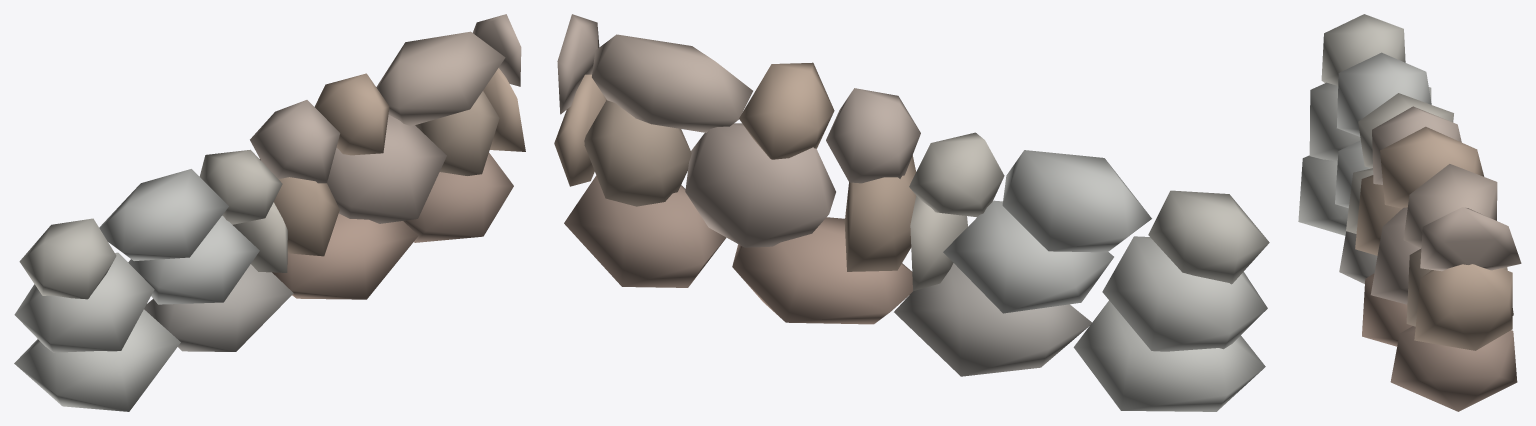
The model's file is farm_-24_-22_near.glb.
3 views of the same model, side by side, from view 1: azimuth 30°, elevation 25°; view 2: azimuth 150°, elevation 25°; view 3: azimuth 270°, elevation 25° (orthographic). The views are drawn at different scales.
Parts seen in each view (by area): view 1: geometry_0; view 2: geometry_0; view 3: geometry_0.
Boxes of the visible parts, box(x1,y1,x2,y2) form: geometry_0: box(14, 14, 525, 411); geometry_0: box(554, 14, 1269, 411); geometry_0: box(1298, 14, 1521, 411).
Bounding box in the file's own units: 3.12 × 1.37 × 1.04.
